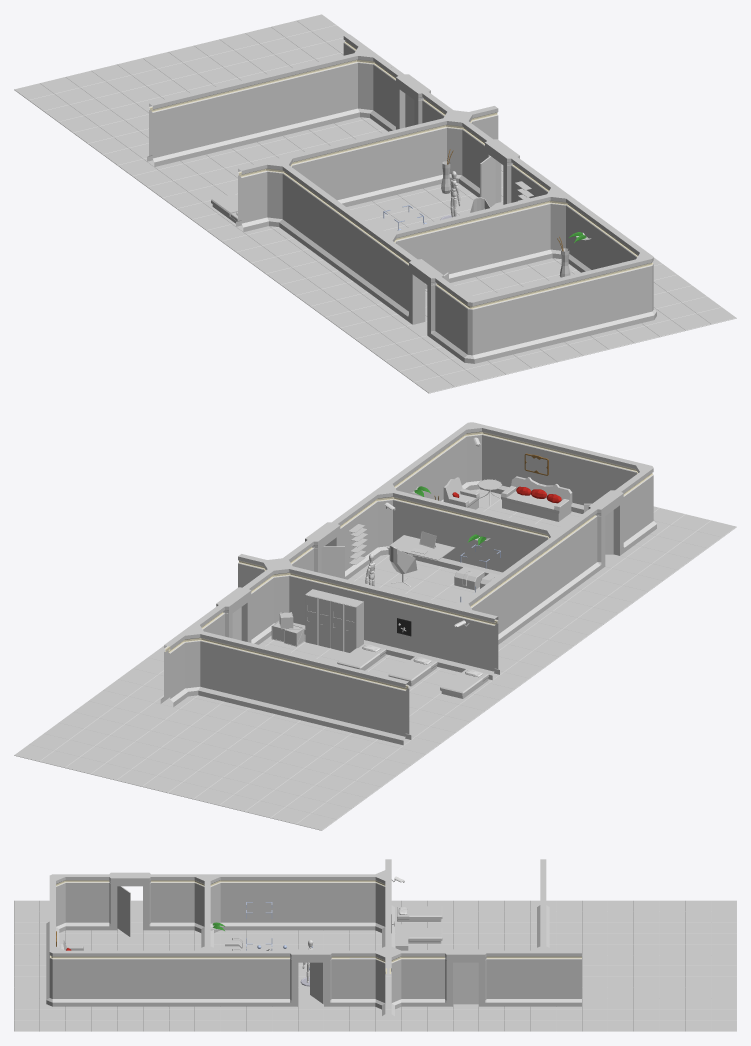
The model's file is props-scene.fbx.
3 renders of one model, top to bottom at view 1: azimuth 30°, elevation 25°; view 2: azimuth 150°, elevation 25°; view 3: azimuth 270°, elevation 25°, orthographic. The views are drawn at different scales.
Parts seen in each view (by area): view 1: wall_t_3, wall_base_5, wall_base_3, wall_base_2, wall_base_1, wall_cross, wall_edge_1, wall_t_1, wall_t, wall_door_frame_1, wall_edge, wall_base_4 (+3 smaller); view 2: wall_t_3, wall_base_5, wall_base_1, wall_base_3, wall_t_1, wall_base_2, wall_cross, wall_t, wall_edge, wall_door_frame_1, wall_edge_1, wall_door_frame_2 (+14 smaller); view 3: wall_t_3, wall_t_1, wall_t, wall_cross, wall_base_4, wall_door_frame_1, wall_door_frame_2, wall_door_frame, wall_edge, wall_edge_1, wall_base, door (+128 smaller).
Part boxes in pixels (x1,y1,x2,y2): wall_t_3: (236,149,422,313); wall_base_5: (147,59,334,166); wall_base_3: (508,265,615,354); wall_base_2: (315,124,422,206); wall_base_1: (419,200,526,288); wall_cross: (418,99,498,193); wall_edge_1: (442,284,512,363); wall_t_1: (329,34,393,128); wall_t: (521,175,586,269); wall_door_frame_1: (397,252,451,346); wall_edge: (610,240,656,329); wall_base_4: (577,208,630,272); wall_t_3: (416,515,590,680); wall_base_5: (224,637,411,745); wall_base_1: (416,496,524,576); wall_base_3: (507,431,613,513); wall_t_1: (160,612,228,706); wall_base_2: (315,572,420,659); wall_cross: (238,547,317,641); wall_t: (357,471,421,565); wall_edge: (446,422,510,494); wall_door_frame_1: (581,483,634,577); wall_edge_1: (610,456,656,544); wall_door_frame_2: (209,580,262,644); wall_t_3: (169,859,394,939); wall_t_1: (504,935,581,1006); wall_t: (169,935,246,1006); wall_cross: (349,935,426,1015); wall_base_4: (91,950,168,1006); wall_door_frame_1: (91,872,168,930); wall_door_frame_2: (427,949,504,1006); wall_door_frame: (272,949,349,1006); wall_edge: (46,935,91,1006); wall_edge_1: (46,874,91,939); wall_base: (246,950,272,1006); door: (453,962,478,1004).
Bounding box in the file's own units: 1200 × 225 × 2800.
